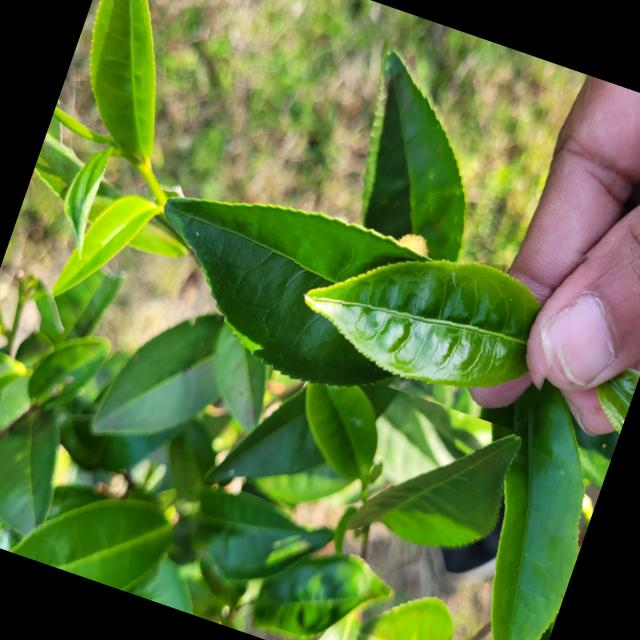Category B 2-4 days: (266, 156, 598, 436)
